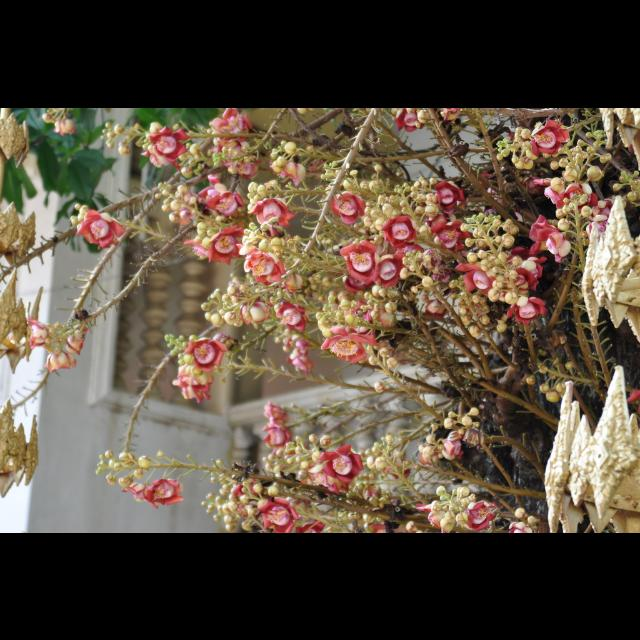Flower: (25, 108, 639, 532), (66, 202, 116, 248)
